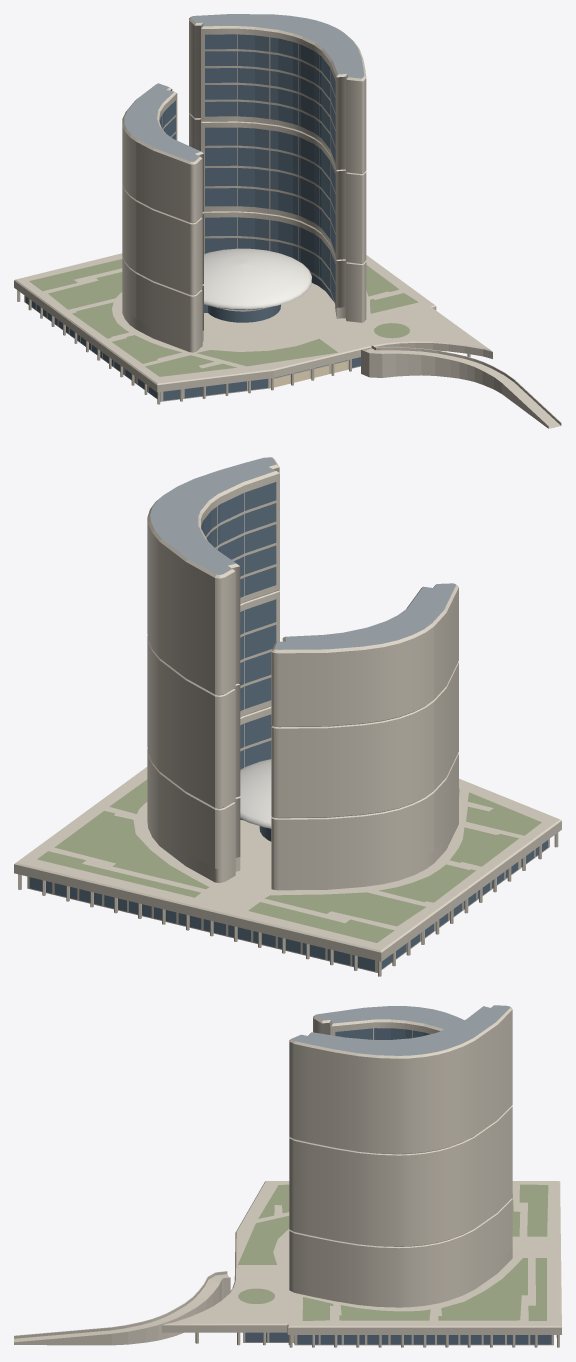
The model's file is tor-city-hall.glb.
The picture shows the model from 3 angles, top to bottom: view 1: azimuth 30°, elevation 25°; view 2: azimuth 150°, elevation 25°; view 3: azimuth 270°, elevation 25°; orthographic projection. The views are drawn at different scales.
Visible parts, largest first — view 1: Toronto City Hall; view 2: Toronto City Hall; view 3: Toronto City Hall.
Part boxes in pixels (x1,y1,x2,y2): Toronto City Hall: [14, 14, 561, 428]; Toronto City Hall: [14, 457, 561, 976]; Toronto City Hall: [14, 1005, 561, 1347].
Bounding box in the file's own units: 114 × 99.5 × 181.
